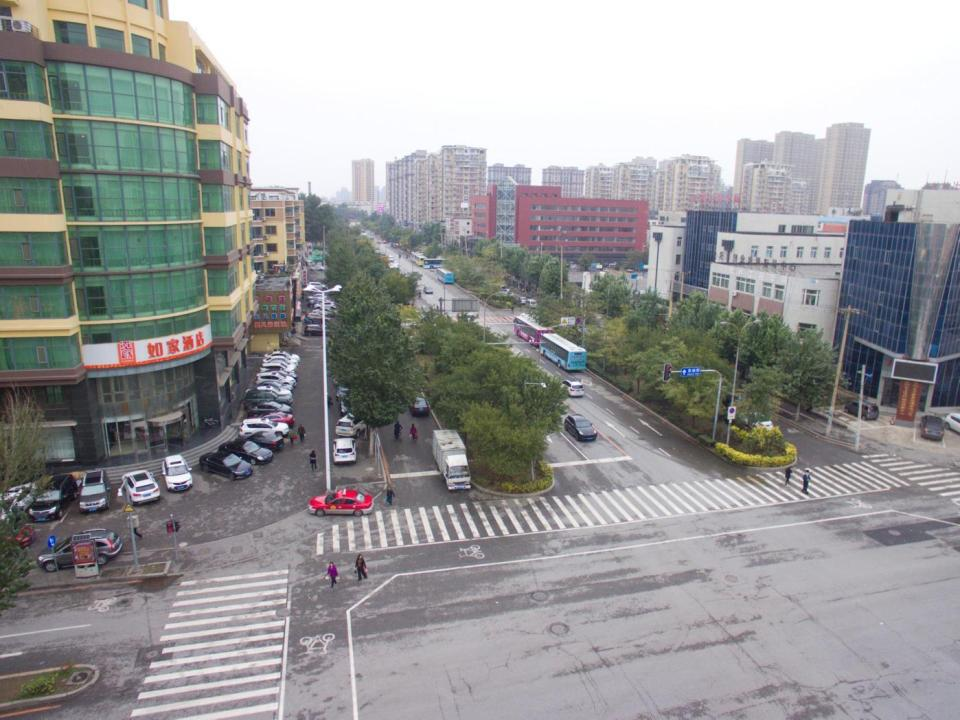bus: (539, 332, 589, 371), (514, 316, 552, 348), (423, 258, 455, 268), (436, 268, 455, 284), (411, 254, 427, 265)
car: (37, 529, 123, 571), (28, 474, 78, 523), (307, 489, 374, 516), (0, 481, 39, 524), (79, 470, 111, 515), (201, 450, 254, 477), (121, 469, 159, 506), (218, 441, 274, 464), (161, 454, 193, 492), (336, 408, 375, 438), (564, 414, 599, 441), (237, 433, 284, 452), (240, 418, 290, 435), (331, 435, 360, 464), (0, 525, 38, 547), (244, 391, 293, 407), (260, 362, 297, 382), (247, 401, 293, 417), (918, 414, 945, 441), (246, 385, 292, 400), (254, 371, 297, 387), (245, 412, 296, 425), (736, 412, 772, 430), (557, 378, 585, 397), (253, 379, 292, 392), (410, 394, 432, 417), (264, 352, 300, 364), (303, 323, 336, 335), (264, 357, 299, 368), (340, 394, 360, 413), (304, 312, 334, 323), (333, 373, 353, 389), (337, 383, 355, 400), (312, 309, 334, 318), (314, 302, 335, 311), (305, 294, 326, 302), (308, 299, 329, 305), (308, 266, 325, 272), (501, 289, 514, 296), (423, 287, 433, 294), (498, 284, 506, 292), (518, 296, 527, 303), (571, 264, 580, 268), (382, 239, 388, 243), (380, 252, 385, 256)
truck: (432, 430, 474, 491)
van: (842, 398, 880, 420), (946, 411, 959, 433), (307, 281, 326, 293), (525, 300, 538, 308), (635, 289, 646, 297), (304, 260, 315, 267), (387, 255, 395, 262), (608, 263, 616, 267)
